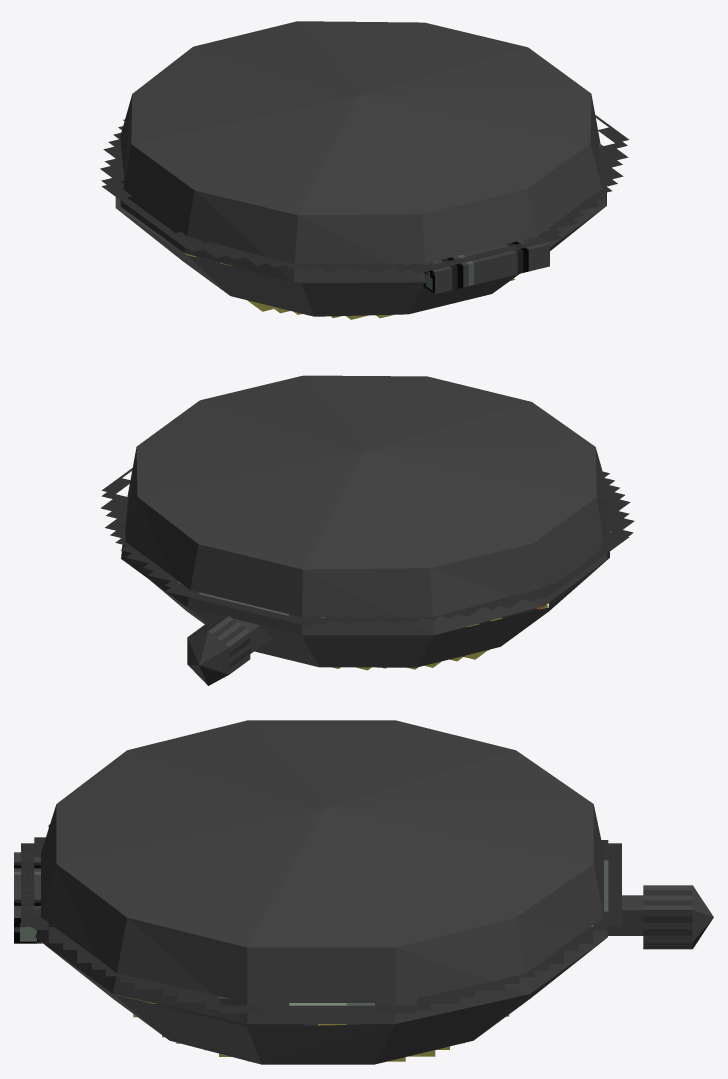
File: compass.glb
3 views of the same model, one above another, from view 1: azimuth 30°, elevation 25°; view 2: azimuth 150°, elevation 25°; view 3: azimuth 270°, elevation 25° (orthographic). The views are drawn at different scales.
Parts seen in each view (by area): view 1: M002, M000, M003; view 2: M002, M000, M003; view 3: M002, M000, M003.
Part boxes in pixels (<box>): M002: <box>120,21,606,282</box>; M000: <box>115,192,606,319</box>; M003: <box>100,115,629,273</box>; M002: <box>121,375,609,635</box>; M000: <box>150,532,609,685</box>; M003: <box>100,468,634,626</box>; M002: <box>35,720,607,1023</box>; M000: <box>14,852,713,1064</box>; M003: <box>21,824,621,1013</box>.
Bounding box in the file's own units: 85 × 30 × 99.
Materials: 1 (1 with a texture image).
